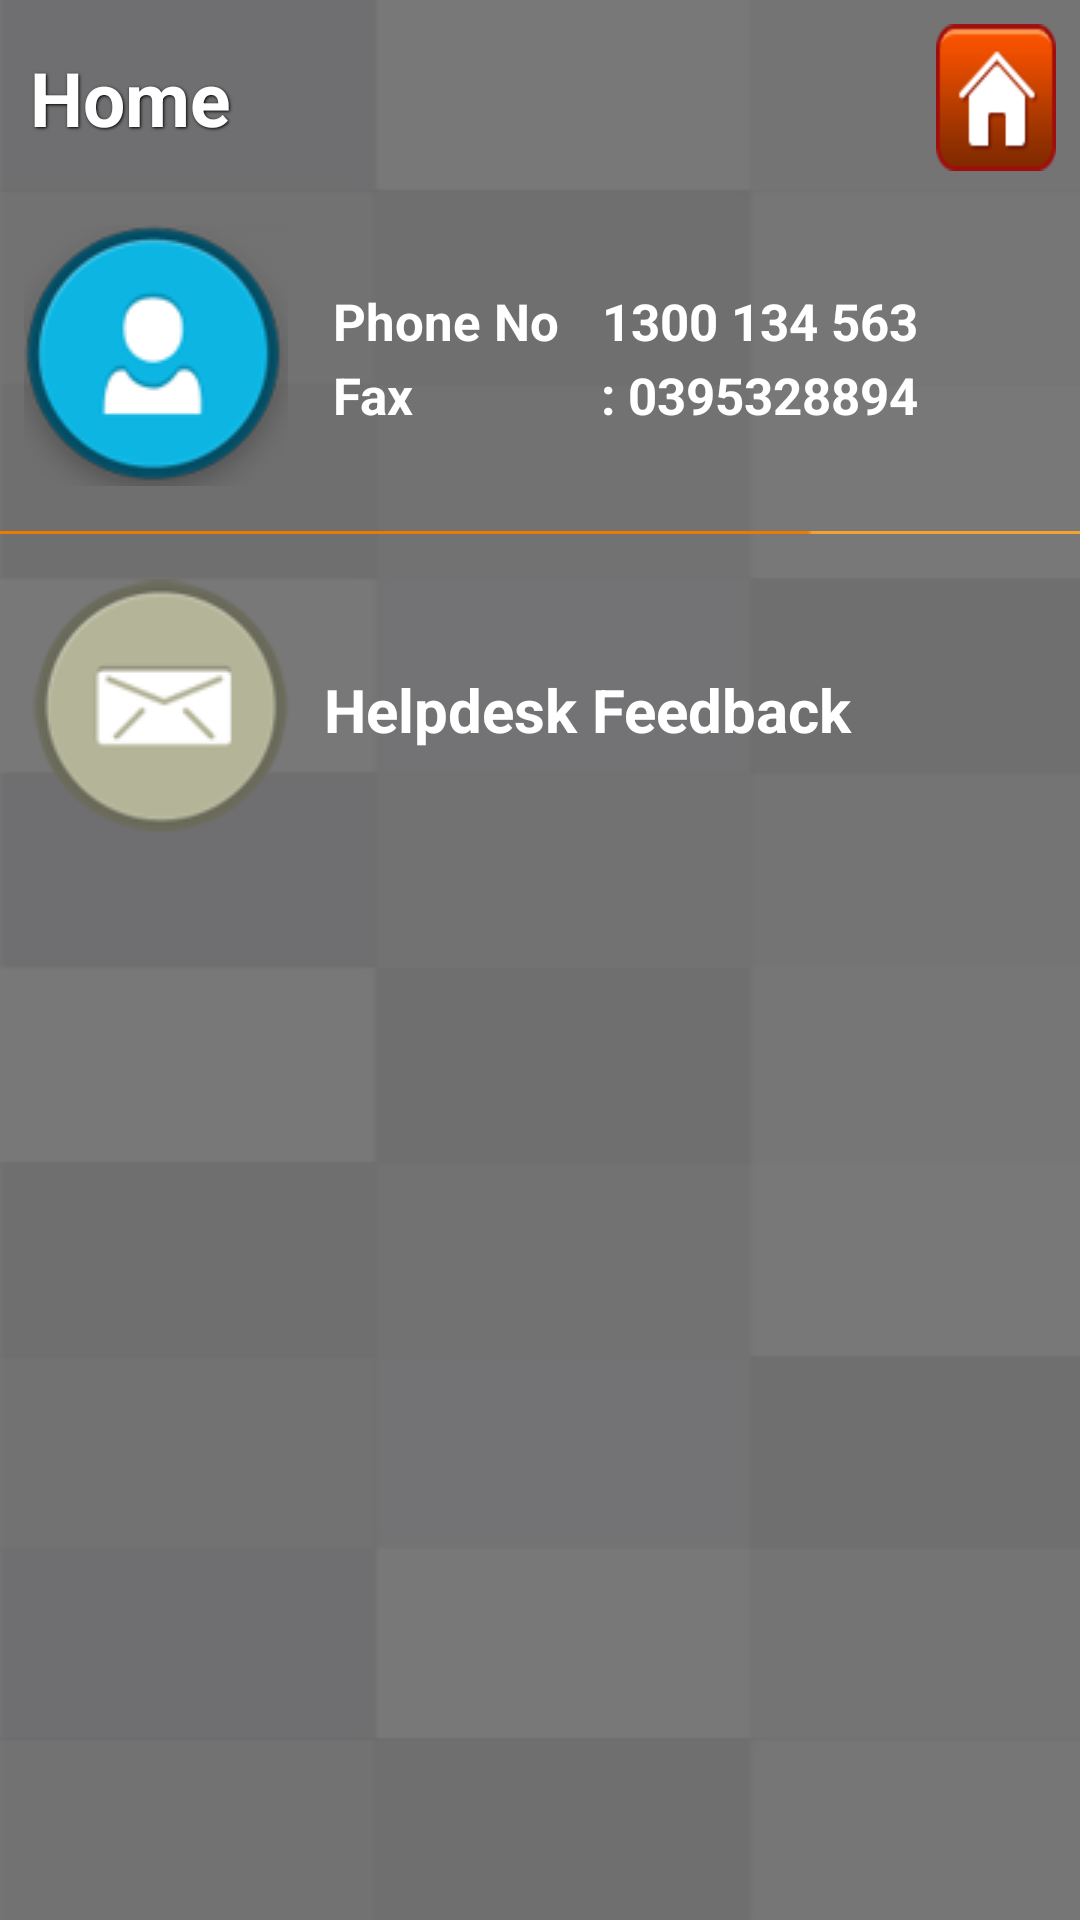

Named icons in this screenshot (1080px×1920px) and their bounding boxes, (x1, y1, x2, y2):
mail: (46, 588, 276, 824)
user: (26, 227, 280, 481)
